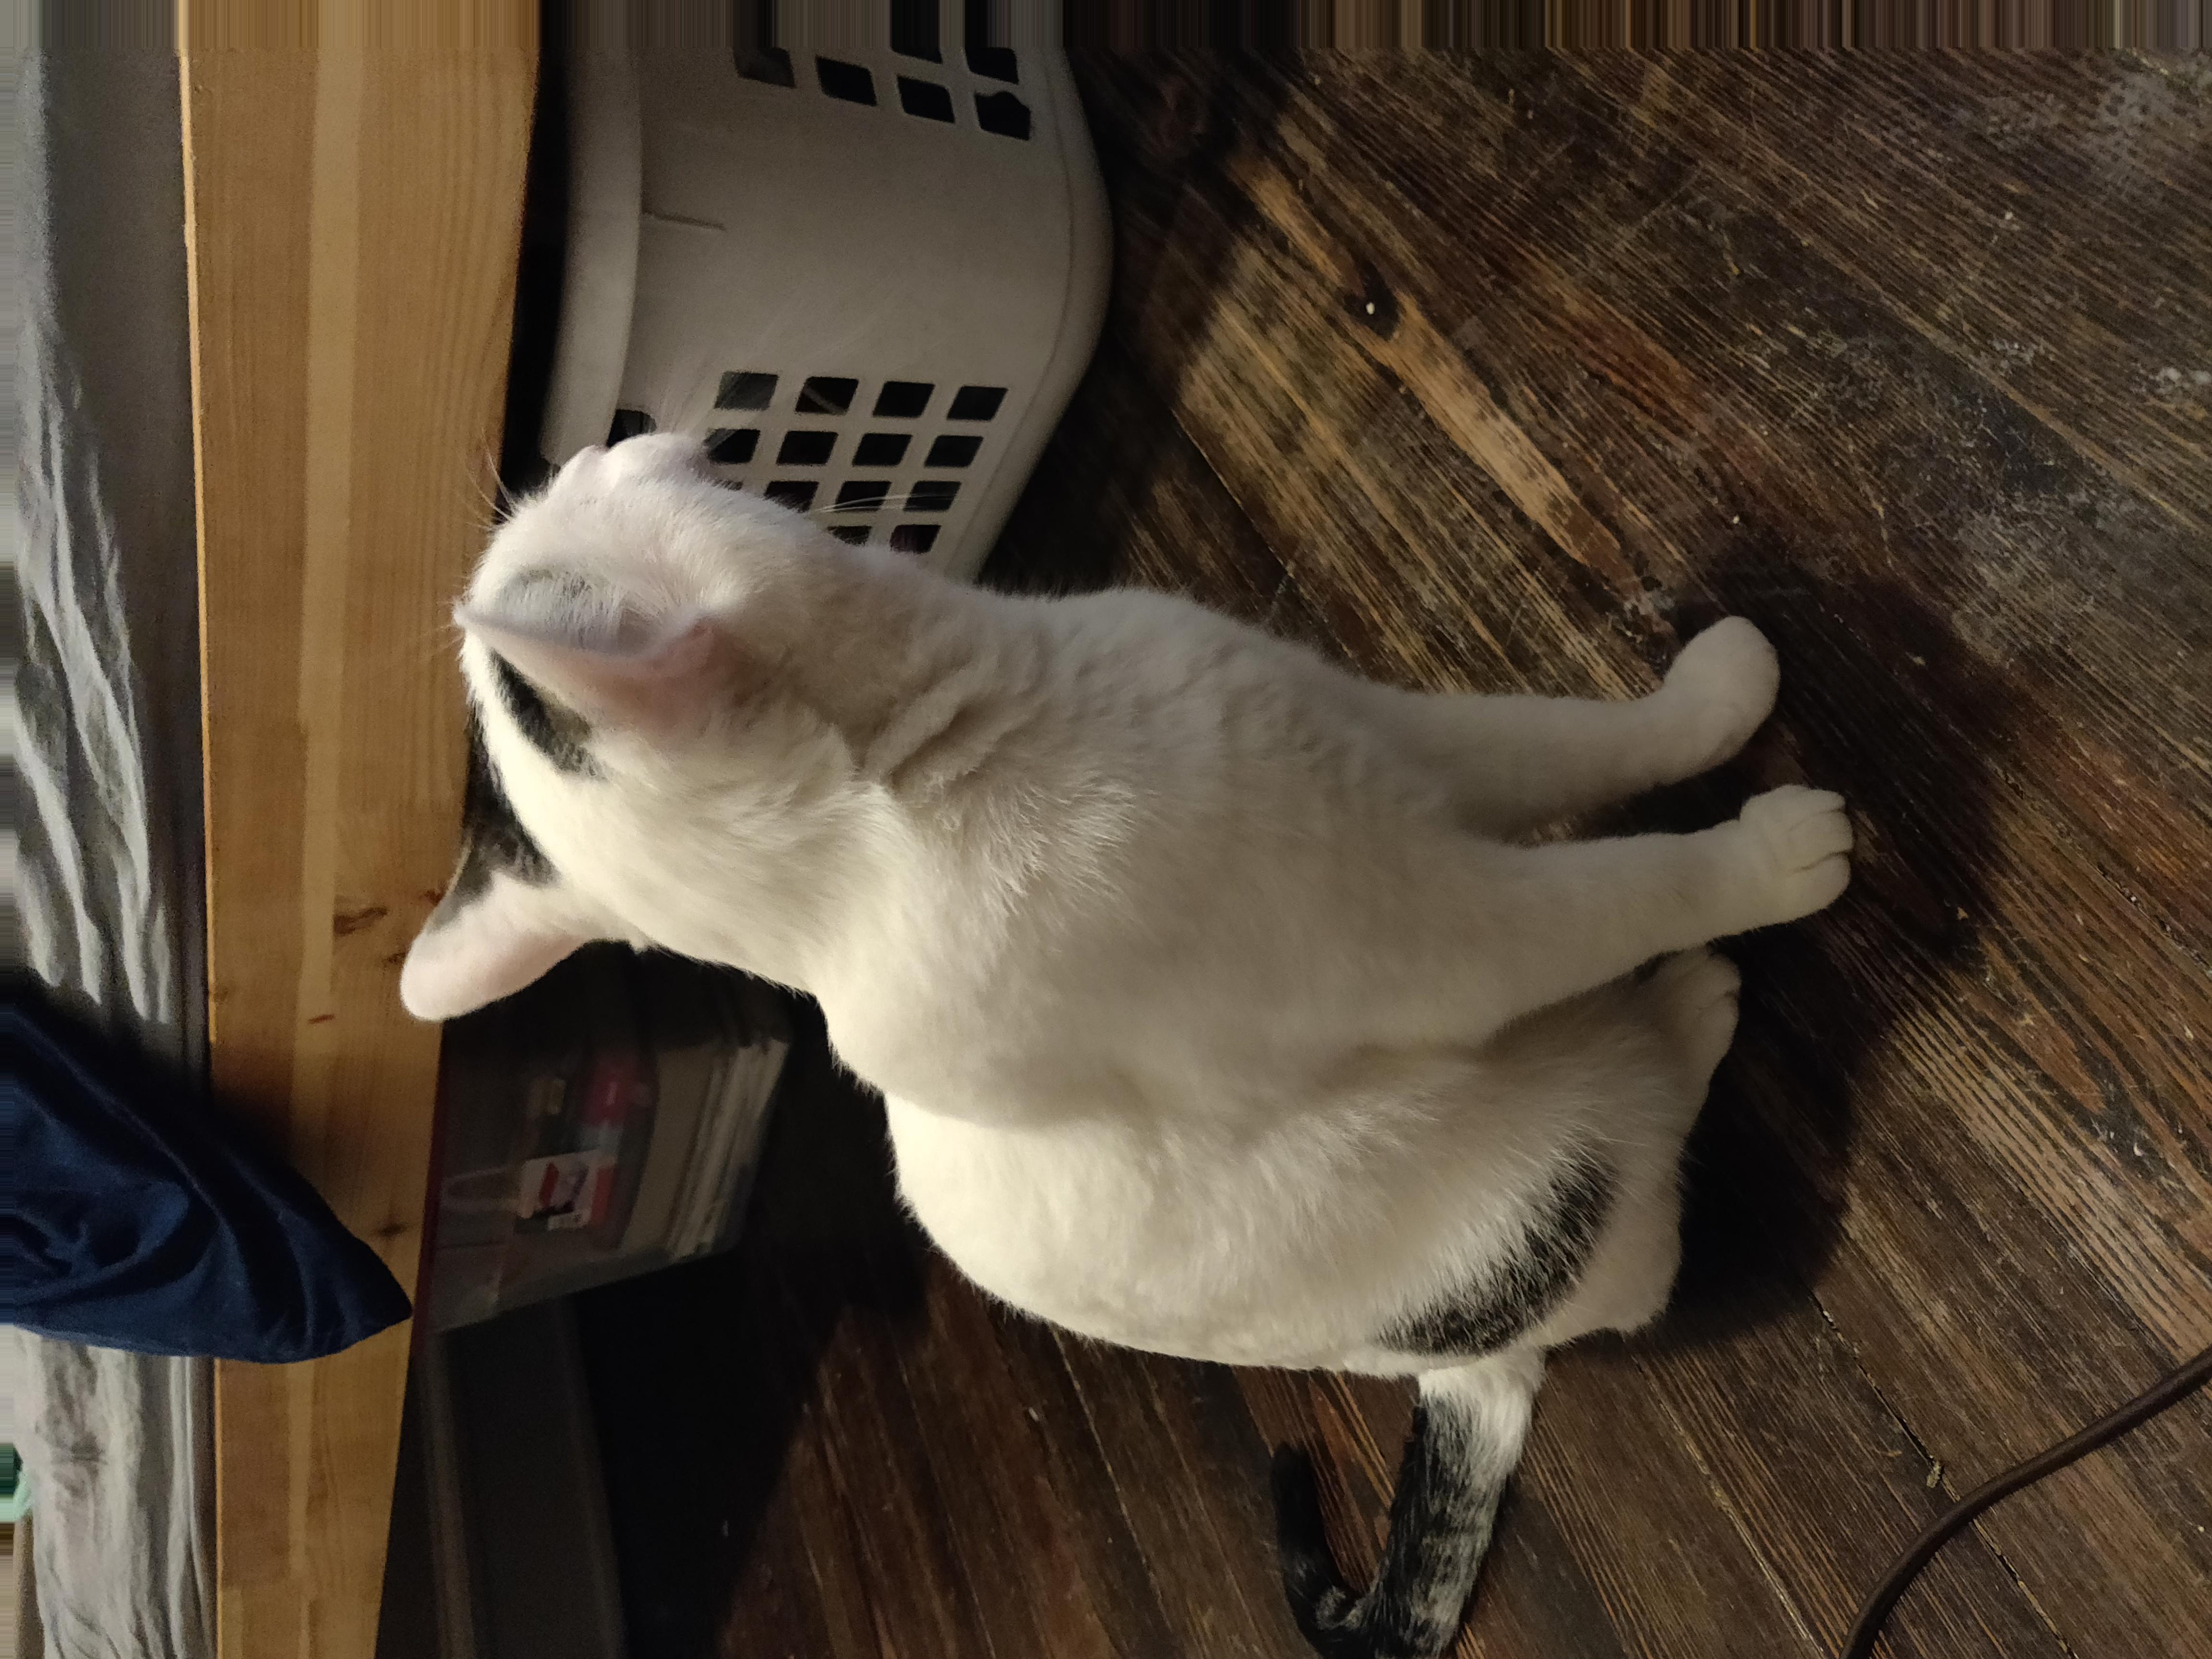cat: (414, 399, 1828, 1382)
